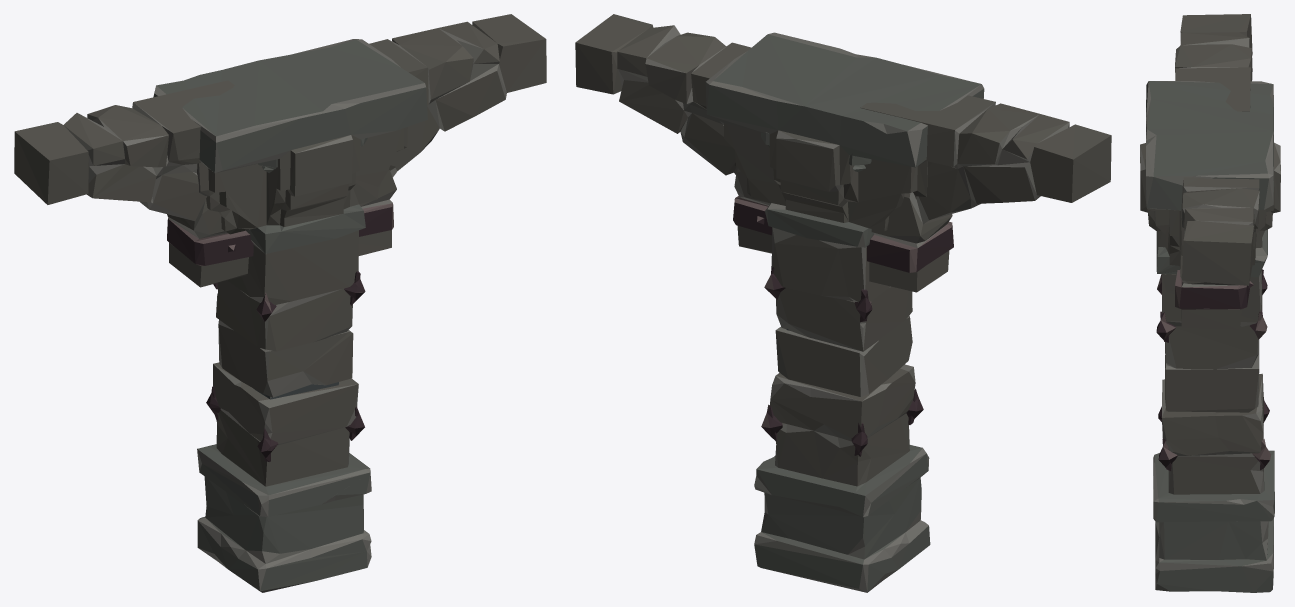
Rendered from MDungeons_Walls_Pillar_02.FBX.
The picture shows the model from 3 angles, left to right: view 1: azimuth 30°, elevation 25°; view 2: azimuth 150°, elevation 25°; view 3: azimuth 270°, elevation 25°; orthographic projection. The views are drawn at different scales.
Parts seen in each view (by area): view 1: MDungeons_Walls_Pillar_02_LOD0; view 2: MDungeons_Walls_Pillar_02_LOD0; view 3: MDungeons_Walls_Pillar_02_LOD0.
Boxes of the visible parts, x1,y1,x2,y2 form: MDungeons_Walls_Pillar_02_LOD0: [14, 14, 546, 592]; MDungeons_Walls_Pillar_02_LOD0: [575, 14, 1111, 592]; MDungeons_Walls_Pillar_02_LOD0: [1140, 14, 1280, 592].
Size of what is drawn, in the model's own units: 8.82 by 8.06 by 2.31.
